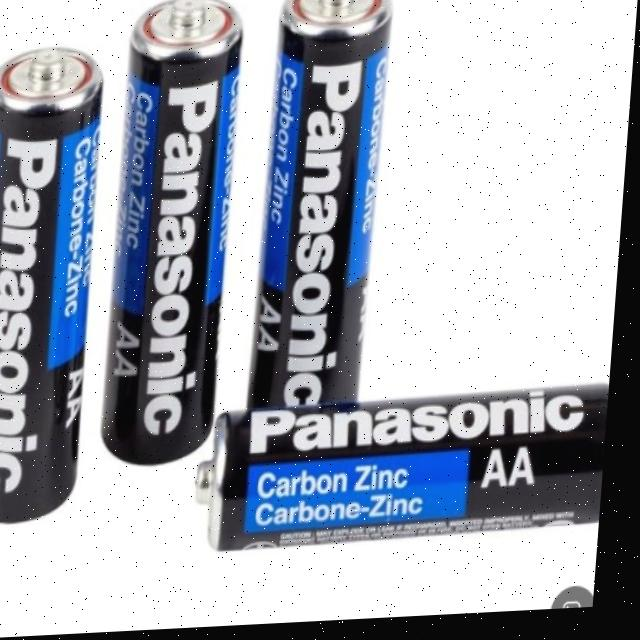battery: (181, 382, 609, 561), (243, 0, 389, 477), (103, 0, 247, 467), (0, 43, 110, 529)
